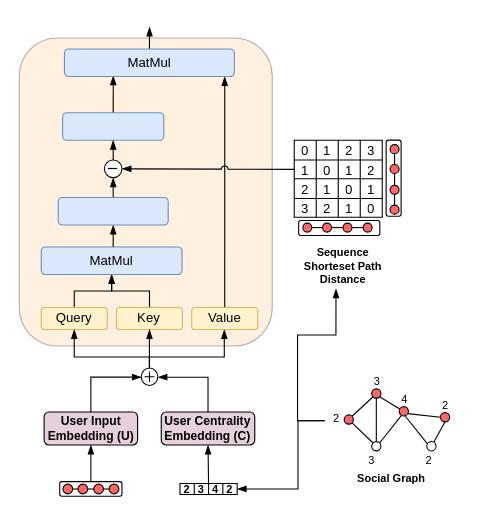
Image size: 481x525. Some labels were removed from this diagram. The centre of each missing label's shape, as x and y in pixels:
"Scale & Masking" belongs at pixel 112 210.
"SoftMax" belongs at pixel 112 126.
